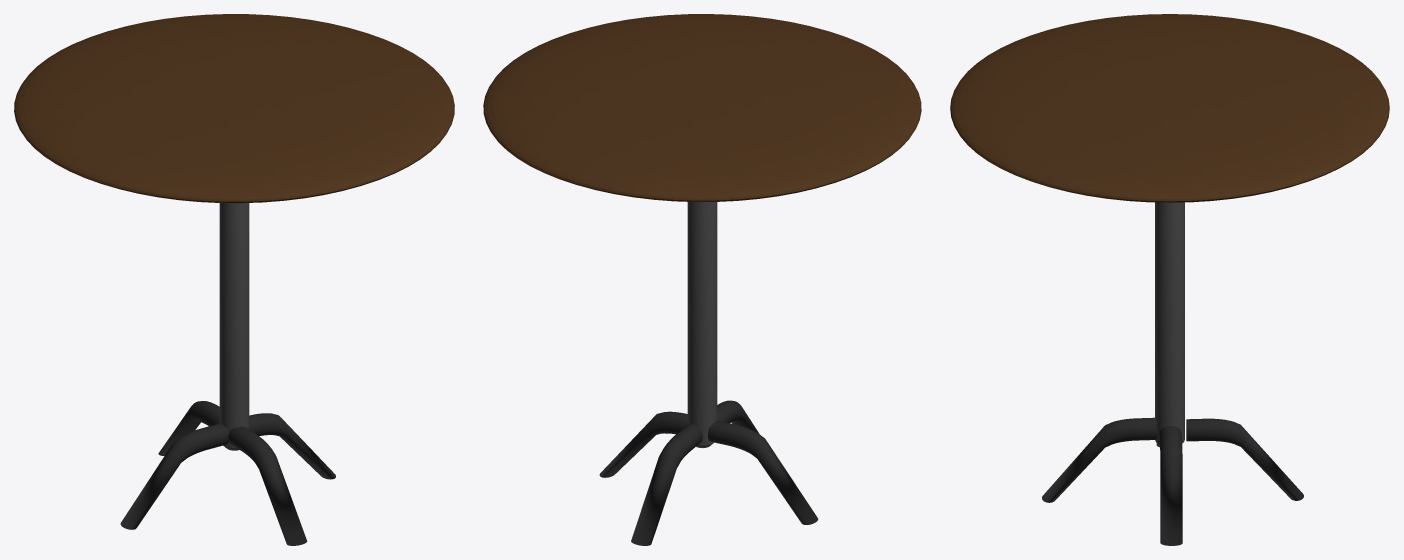
The model's file is table.fbx.
The picture shows the model from 3 angles, left to right: view 1: azimuth 30°, elevation 25°; view 2: azimuth 150°, elevation 25°; view 3: azimuth 270°, elevation 25°; orthographic projection.
Parts seen in each view (by area): view 1: Sphere, Cylinder, Cylinder.003, Cylinder.002, Cylinder.001, Cylinder.004; view 2: Sphere, Cylinder, Cylinder.004, Cylinder.002, Cylinder.001, Cylinder.003; view 3: Sphere, Cylinder, Cylinder.001, Cylinder.004, Cylinder.003.
Part boxes in pixels (<box>): Sphere: <box>14,14,454,203</box>; Cylinder: <box>219,203,249,450</box>; Cylinder.003: <box>228,426,307,545</box>; Cylinder.002: <box>120,423,228,529</box>; Cylinder.001: <box>249,413,335,479</box>; Cylinder.004: <box>158,401,219,455</box>; Sphere: <box>483,14,921,201</box>; Cylinder: <box>687,202,717,448</box>; Cylinder.004: <box>631,424,702,545</box>; Cylinder.002: <box>708,420,818,524</box>; Cylinder.001: <box>599,411,687,477</box>; Cylinder.003: <box>717,400,759,434</box>; Sphere: <box>950,14,1389,202</box>; Cylinder: <box>1155,202,1184,444</box>; Cylinder.001: <box>1159,426,1182,545</box>; Cylinder.004: <box>1186,418,1303,500</box>; Cylinder.003: <box>1042,417,1157,502</box>.
Size of the model in its own units: 59.23 by 60.32 by 59.23.
